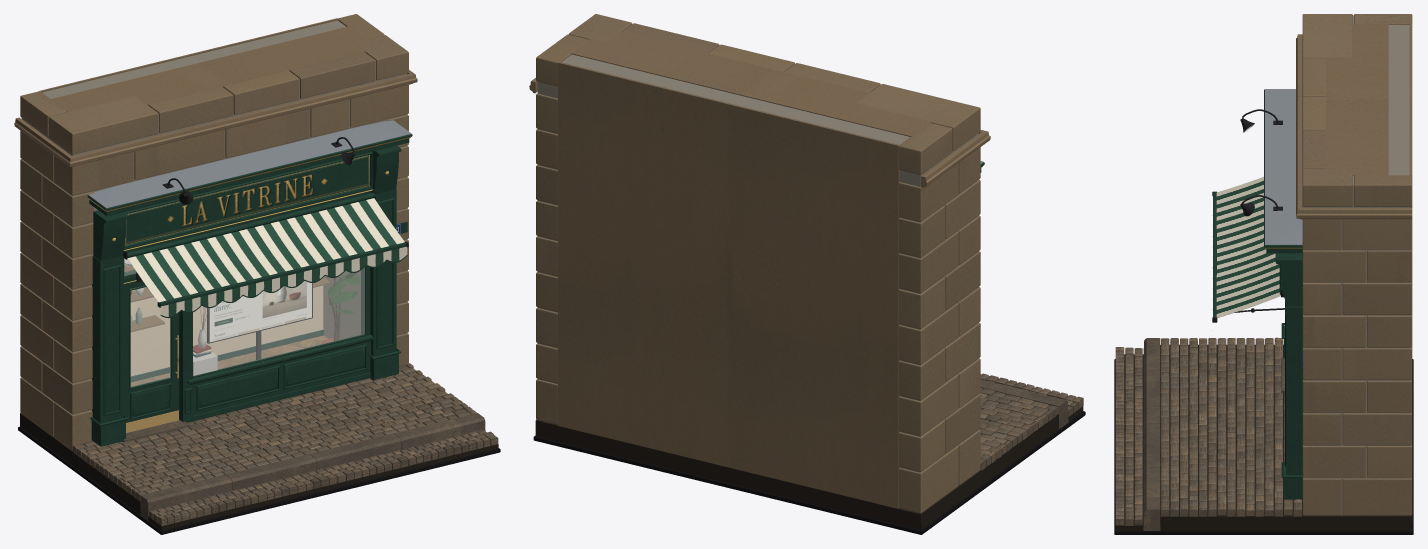
File: vitrine.glb
3 renders of one model, left to right at view 1: azimuth 30°, elevation 25°; view 2: azimuth 150°, elevation 25°; view 3: azimuth 270°, elevation 25°, orthographic. The views are drawn at different scales.
Parts seen in each view (by area): view 1: Shop_Facade, Shop_Woodwork, Shop_Ground, Shop_Awning, Shop_Glass, Shop_Sign, Shop_Interior, Shop_Interior_Wash, Shop_Screen, Shop_Plant; view 2: Shop_Facade, Shop_Ground; view 3: Shop_Facade, Shop_Ground, Shop_Woodwork, Shop_Awning.
Boxes of the visible parts, x1,y1,x2,y2 form: Shop_Facade: (14, 14, 417, 450); Shop_Woodwork: (87, 120, 412, 446); Shop_Ground: (18, 363, 500, 534); Shop_Awning: (127, 198, 408, 318); Shop_Glass: (124, 259, 364, 387); Shop_Sign: (125, 152, 370, 245); Shop_Interior: (124, 259, 360, 386); Shop_Interior_Wash: (130, 285, 323, 376); Shop_Screen: (209, 281, 311, 342); Shop_Plant: (321, 272, 360, 343); Shop_Facade: (529, 14, 990, 513); Shop_Ground: (533, 373, 1085, 534); Shop_Facade: (1296, 14, 1412, 515); Shop_Ground: (1114, 337, 1413, 534); Shop_Woodwork: (1240, 89, 1302, 499); Shop_Awning: (1212, 176, 1284, 330).
Bounding box in the file's own units: 2.48 × 2.28 × 1.77.
Materials: 35 (7 with a texture image).
